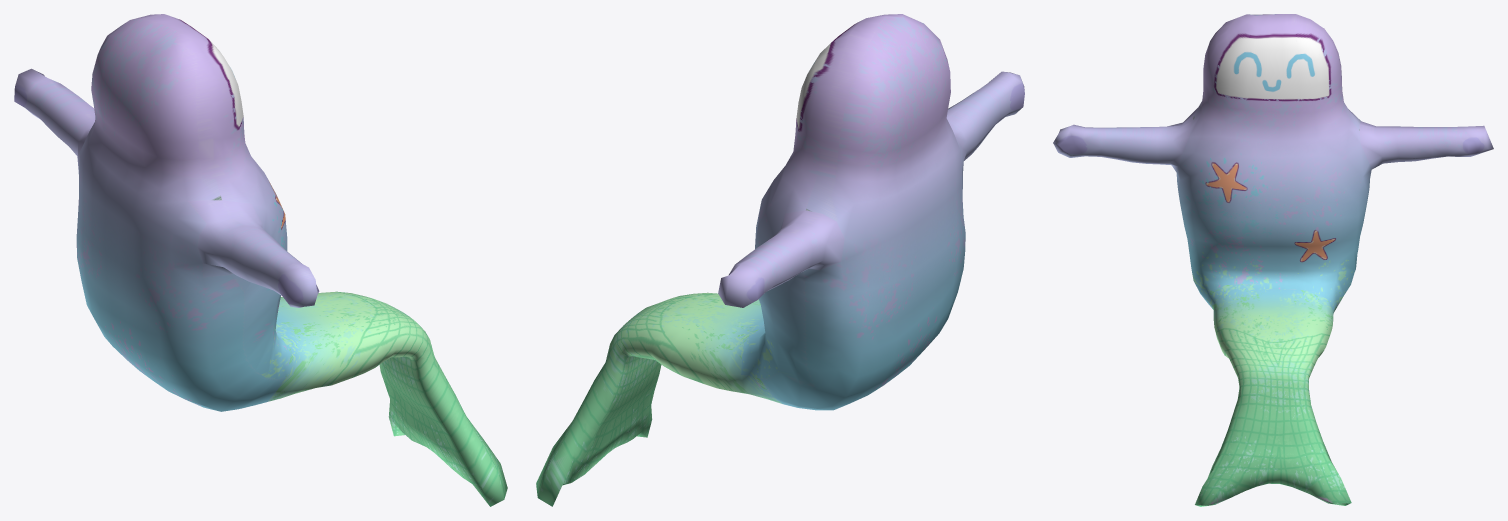
File: MerGuide.fbx
The picture shows the model from 3 angles, left to right: view 1: azimuth 30°, elevation 25°; view 2: azimuth 150°, elevation 25°; view 3: azimuth 270°, elevation 25°; orthographic projection. The views are drawn at different scales.
Parts seen in each view (by area): view 1: MerGuide; view 2: MerGuide; view 3: MerGuide.
Part boxes in pixels (bbox=[...]): MerGuide: bbox=[14, 14, 507, 506]; MerGuide: bbox=[536, 14, 1024, 506]; MerGuide: bbox=[1053, 14, 1493, 506].
Size of the model in its own units: 18.17 by 25.56 by 26.23.
1 material, 1 textured.
